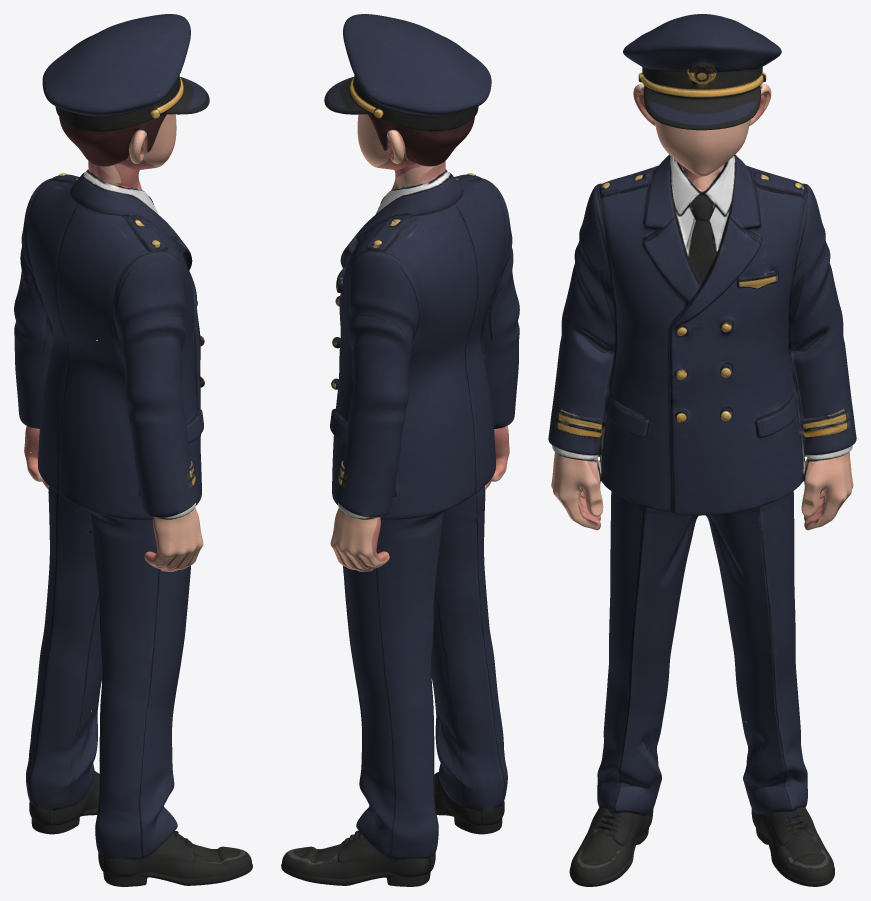
Rendered from navy+officer+3d+model.glb.
3 views of the same model, side by side, from view 1: azimuth 30°, elevation 25°; view 2: azimuth 150°, elevation 25°; view 3: azimuth 270°, elevation 25° (orthographic). The views are drawn at different scales.
Parts seen in each view (by area): view 1: tripo_node_7eedb99b-08fb-4d38-86d0-c29fd76c841c; view 2: tripo_node_7eedb99b-08fb-4d38-86d0-c29fd76c841c; view 3: tripo_node_7eedb99b-08fb-4d38-86d0-c29fd76c841c.
Boxes of the visible parts, x1,y1,x2,y2 form: tripo_node_7eedb99b-08fb-4d38-86d0-c29fd76c841c: [14, 14, 252, 886]; tripo_node_7eedb99b-08fb-4d38-86d0-c29fd76c841c: [281, 14, 519, 886]; tripo_node_7eedb99b-08fb-4d38-86d0-c29fd76c841c: [548, 14, 856, 886].
Size of the model in its own units: 0.1945 by 1 by 0.3317.
1 material, 1 textured.
